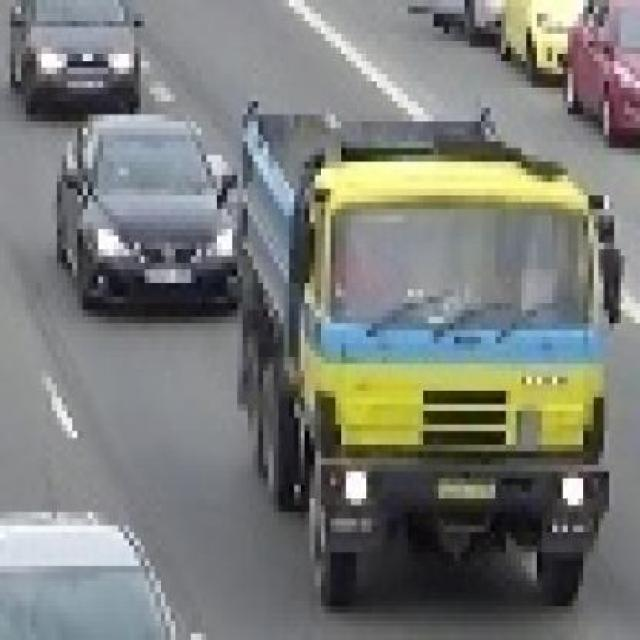truck: (228, 95, 620, 607)
